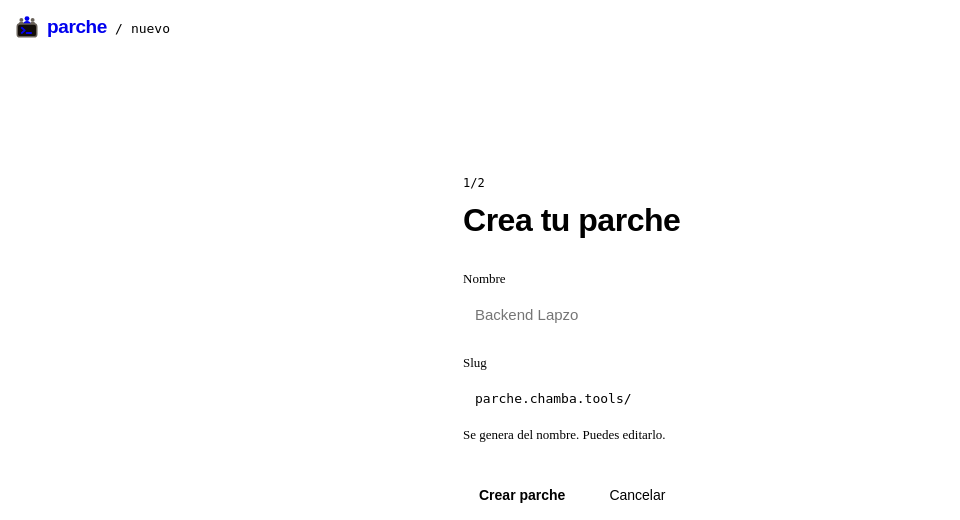
NuevoPage › marks slug as edited when manually changed
In the field labelled "Slug": (787, 399) [632,391,943,406], type "mi-slug"
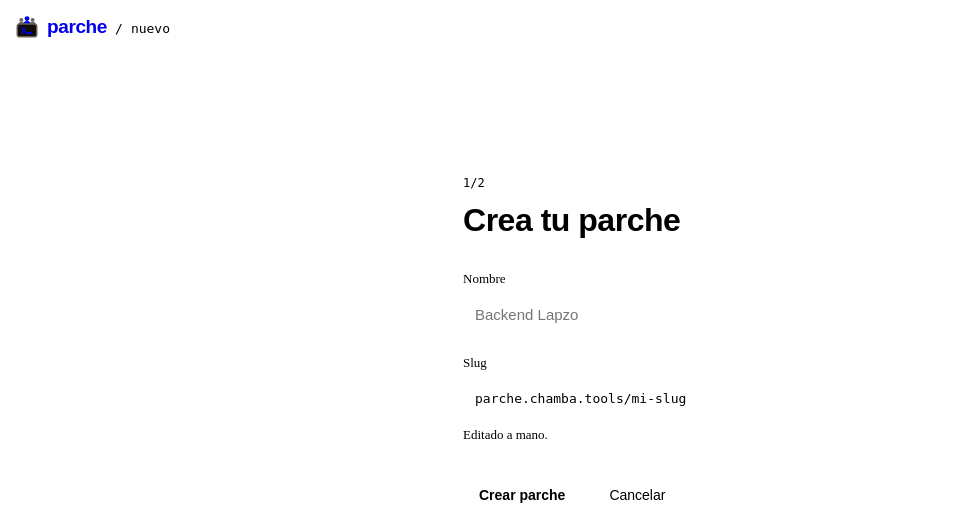
Expected: the text "Editado a mano." is shown, [463,427,548,442]
